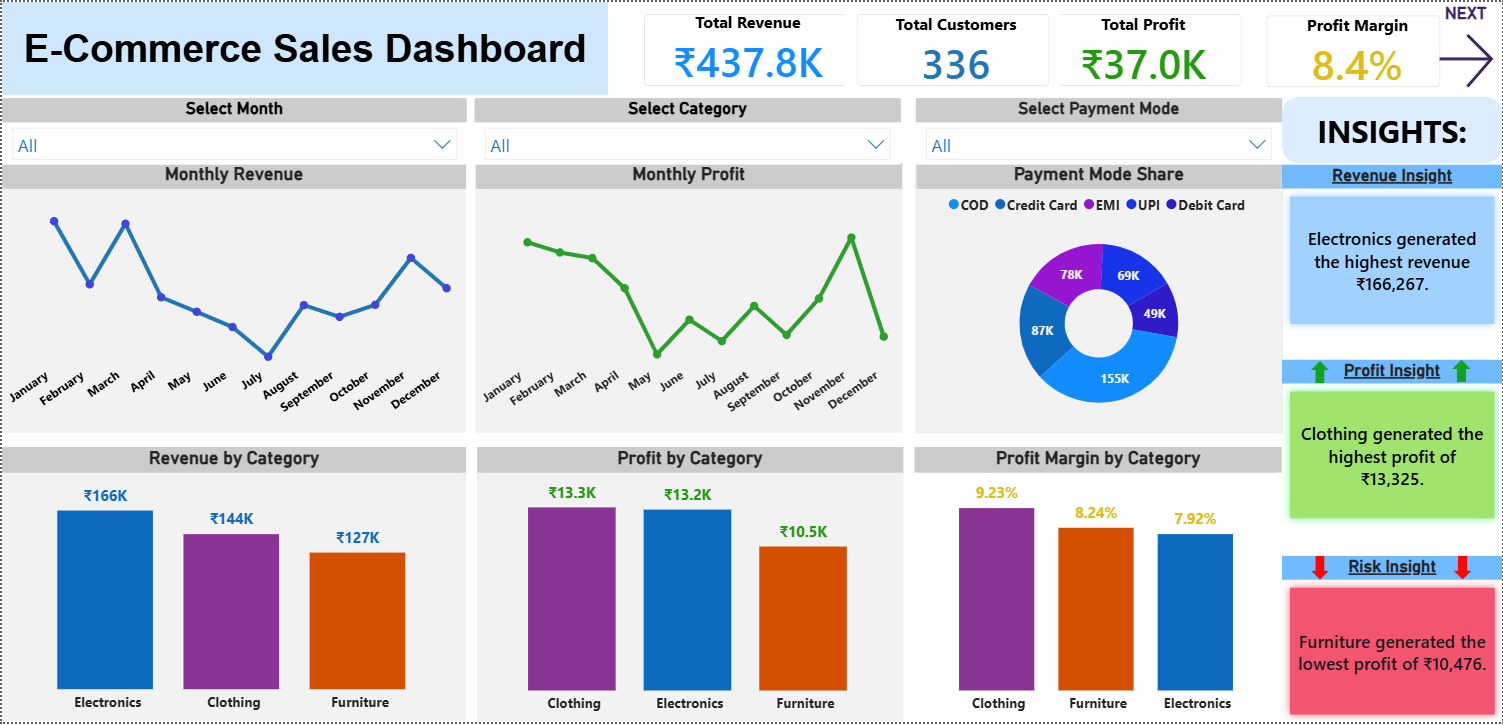

What the dashboard file says about the page in this screenshot:
{"tool":"powerbi","page":{"name":"Executive Overview","canvas":[1500,720],"ordinal":0},"visuals":[{"type":"shape","box":[0,0,606,93],"z":0},{"type":"cardVisual","title":"Total Revenue","fields":{"Data":["Details.Total Revenue"]},"box":[629.5,0,226.2,96.7],"z":1000},{"type":"cardVisual","fields":{"Data":["Details.Total Profit"]},"box":[1018.8,0,233.8,96.2],"z":2000},{"type":"cardVisual","fields":{"Data":["Details.Profit Margin %"]},"box":[1252.5,1.2,198.8,96.2],"z":3000},{"type":"cardVisual","fields":{"Data":["Orders.Total Customers"]},"box":[842.5,0,217.5,96.2],"z":4000},{"type":"lineChart","title":"Monthly Revenue","fields":{"Category":["Orders.Month"],"Y":["Details.Total Revenue"]},"box":[0,160.8,464.1,269.9],"z":5000},{"type":"lineChart","title":"Monthly Profit","fields":{"Category":["Orders.Month"],"Y":["Details.Total Profit"]},"box":[473.3,160.8,426.2,269.9],"z":6000},{"type":"columnChart","title":"Revenue by  Category","fields":{"Category":["Details.category"],"Y":["Details.Total Revenue"]},"box":[0,445.1,464.3,274.4],"z":7000},{"type":"columnChart","title":"Profit by Category","fields":{"Y":["Details.Total Profit"],"Category":["Details.category"]},"box":[474.4,444.5,426.2,275.7],"z":8000},{"type":"donutChart","title":"Payment Mode Share","fields":{"Category":["Details.payment_mode"],"Y":["Details.Total Revenue"]},"box":[913.2,160.8,366.4,269.9],"z":9000},{"type":"columnChart","title":"Profit Margin by Category","fields":{"Y":["Details.Profit Margin"],"Category":["Details.category"]},"box":[912.1,444.5,367.6,275.7],"z":10000},{"type":"slicer","title":"Select Month","fields":{"Values":["Orders.Month"]},"box":[0,96.2,465,66.2],"z":11000},{"type":"slicer","title":"Select Category","fields":{"Values":["Details.category"]},"box":[472.5,96.2,426.2,66.2],"z":12000},{"type":"slicer","title":"Select Payment Mode","fields":{"Values":["Details.payment_mode"]},"box":[913.8,96.2,366.2,66.2],"z":13000},{"type":"shape","box":[1280.1,95,220.2,66.2],"z":14000},{"type":"shape","title":"Revenue Insight","box":[1279.9,162,220.4,167.8],"z":15000},{"type":"shape","title":"Profit Insight","box":[1279.9,357.6,220.4,167],"z":16000},{"type":"shape","title":"Risk Insight","box":[1279.5,553.2,220.7,167],"z":17000},{"type":"shape","box":[1308.3,358.3,18.3,22.8],"z":18000},{"type":"shape","box":[1308.4,553.7,18.4,24.1],"z":19000},{"type":"shape","box":[1450.7,554,18.7,24],"z":20000},{"type":"shape","box":[1450.6,357.8,18.9,22.8],"z":21000},{"type":"actionButton","title":"NEXT","box":[1430,1.2,67.5,91.2],"z":21001}]}

Visuals, with their boxes in screenshot pixels (x1, y1, x2, y2), scaled from the page's 1500x720 canvas onto the 1503x725 screenshot:
shape: 0,0,607,94
"Total Revenue" cardVisual: 631,0,857,97
cardVisual - Details.Total Profit: 1021,0,1255,97
cardVisual - Details.Profit Margin %: 1255,1,1454,98
cardVisual - Orders.Total Customers: 844,0,1062,97
"Monthly Revenue" lineChart: 0,162,465,434
"Monthly Profit" lineChart: 474,162,901,434
"Revenue by  Category" columnChart: 0,448,465,724
"Profit by Category" columnChart: 475,448,902,724
"Payment Mode Share" donutChart: 915,162,1282,434
"Profit Margin by Category" columnChart: 914,448,1282,724
"Select Month" slicer: 0,97,466,164
"Select Category" slicer: 473,97,900,164
"Select Payment Mode" slicer: 916,97,1283,164
shape: 1283,96,1502,162
"Revenue Insight" shape: 1282,163,1502,332
"Profit Insight" shape: 1282,360,1502,528
"Risk Insight" shape: 1282,557,1502,724
shape: 1311,361,1329,384
shape: 1311,558,1329,582
shape: 1454,558,1472,582
shape: 1454,360,1472,383
"NEXT" actionButton: 1433,1,1500,93
